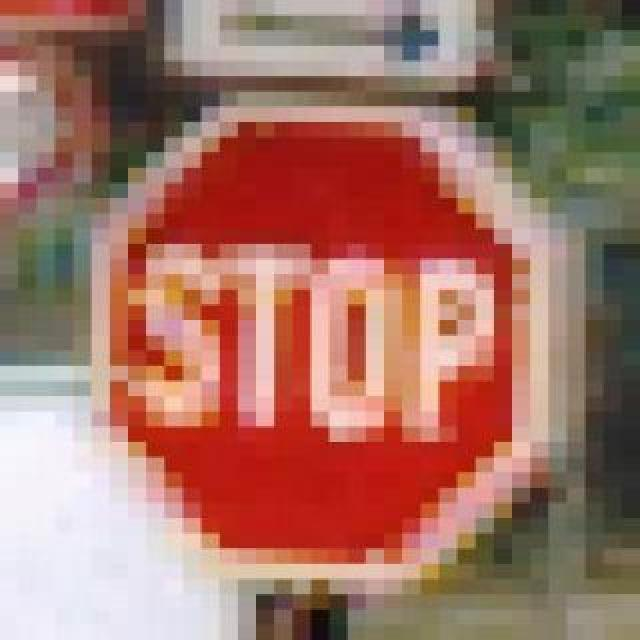stop: (74, 76, 550, 580)
